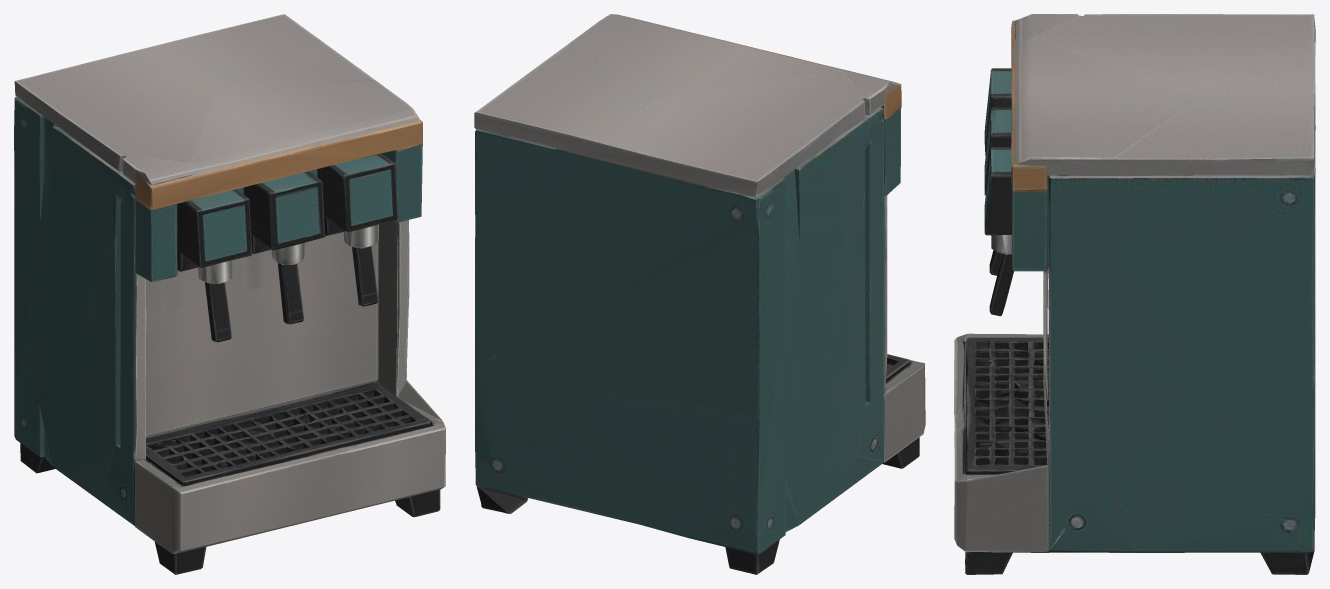
The model's file is sodaTap.glb.
The picture shows the model from 3 angles, left to right: view 1: azimuth 30°, elevation 25°; view 2: azimuth 150°, elevation 25°; view 3: azimuth 270°, elevation 25°; orthographic projection. The views are drawn at different scales.
Visible parts, largest first — view 1: Mesh_0; view 2: Mesh_0; view 3: Mesh_0.
Boxes of the visible parts, x1,y1,x2,y2 form: Mesh_0: (14, 14, 445, 574); Mesh_0: (474, 14, 925, 574); Mesh_0: (954, 14, 1315, 574).
Size of the model in its own units: 0.5271 by 0.7 by 0.5469.
1 material, 1 textured.
